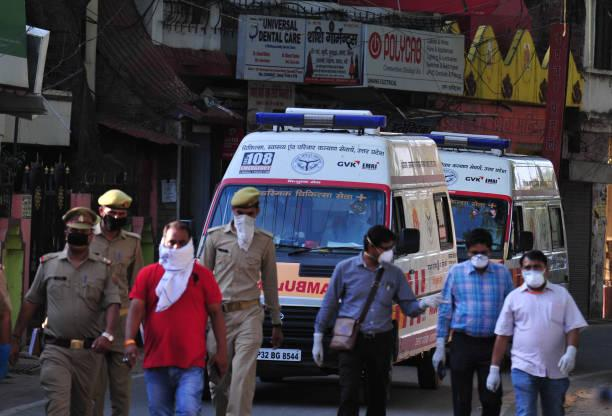AMBULANCE: (182, 96, 455, 394), (431, 120, 584, 319)
